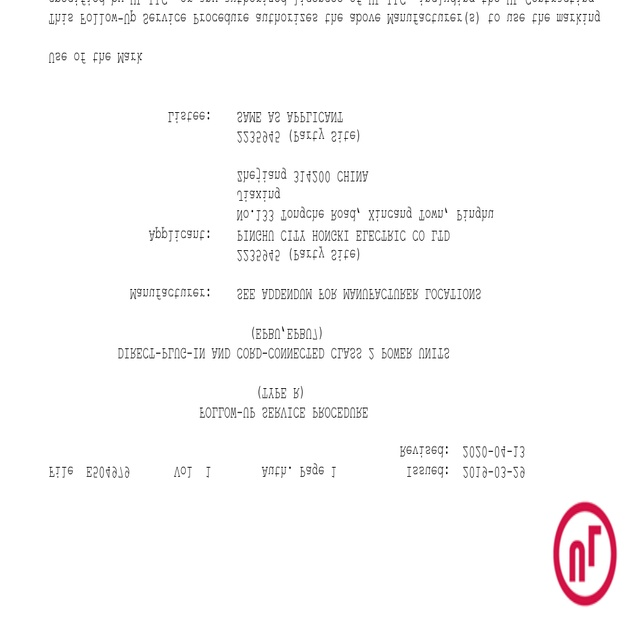ul: (551, 500, 618, 606)
